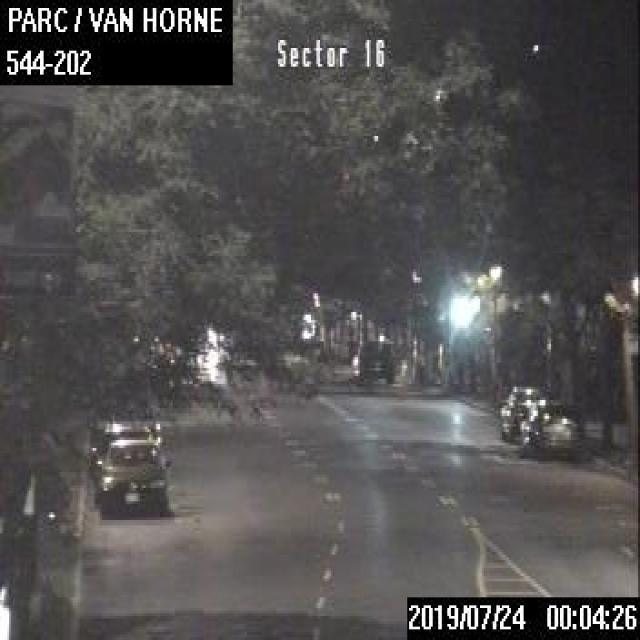vehicle: (93, 436, 171, 514), (92, 416, 162, 480), (522, 398, 582, 459), (496, 379, 546, 432), (349, 333, 393, 384)
